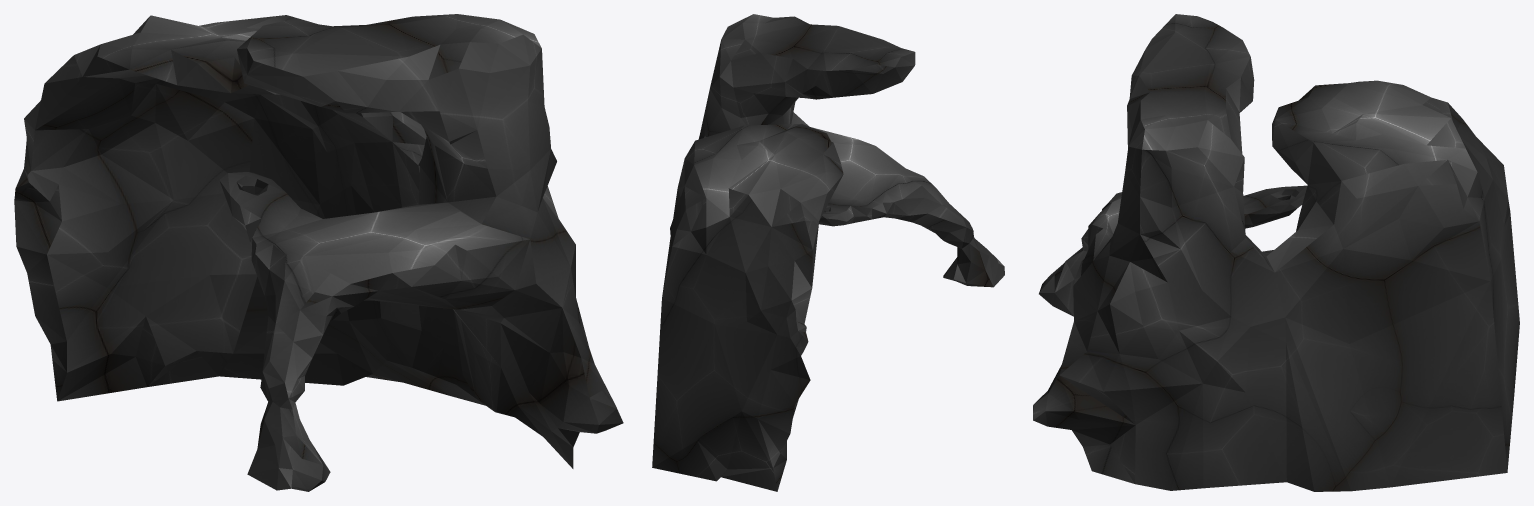
The model's file is CoralPuzzle_Wall2 1.fbx.
3 views of the same model, side by side, from view 1: azimuth 30°, elevation 25°; view 2: azimuth 150°, elevation 25°; view 3: azimuth 270°, elevation 25° (orthographic). The views are drawn at different scales.
Parts seen in each view (by area): view 1: Cube.002; view 2: Cube.002; view 3: Cube.002.
Boxes of the visible parts, left/top/right/bottom form: Cube.002: left=14, top=14, right=623, bottom=491; Cube.002: left=652, top=14, right=1004, bottom=491; Cube.002: left=1033, top=14, right=1519, bottom=491.
Size of the model in its own units: 6018 by 7763 by 8638.
1 material, 1 textured.
